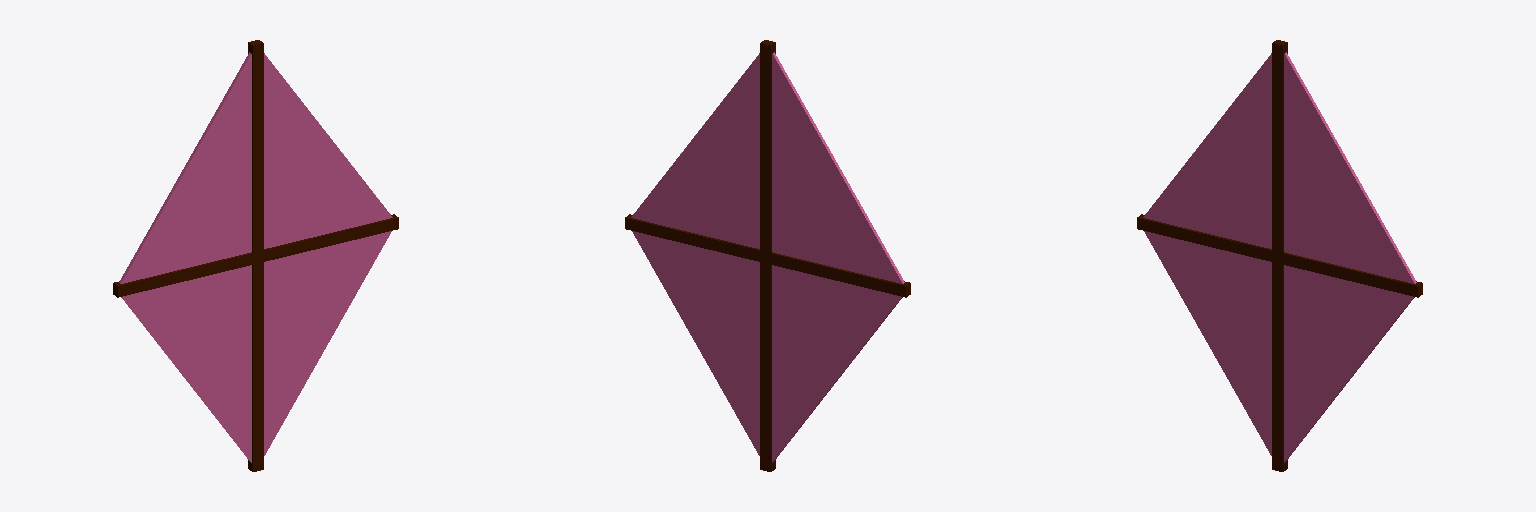
File: Kite.obj
3 renders of one model, left to right at view 1: azimuth 30°, elevation 25°; view 2: azimuth 150°, elevation 25°; view 3: azimuth 330°, elevation 25°, orthographic.
Visible parts, largest first — view 1: kite_Cube.001, kite.001_Cube.002; view 2: kite_Cube.001, kite.001_Cube.002; view 3: kite_Cube.001, kite.001_Cube.002.
Boxes of the visible parts, x1,y1,x2,y2 form: kite_Cube.001: [119, 52, 392, 462]; kite.001_Cube.002: [113, 40, 398, 471]; kite_Cube.001: [631, 52, 904, 462]; kite.001_Cube.002: [625, 40, 910, 471]; kite_Cube.001: [1143, 52, 1416, 462]; kite.001_Cube.002: [1137, 40, 1422, 471].
Bounding box in the file's own units: 0.9787 × 1.42 × 0.0288.